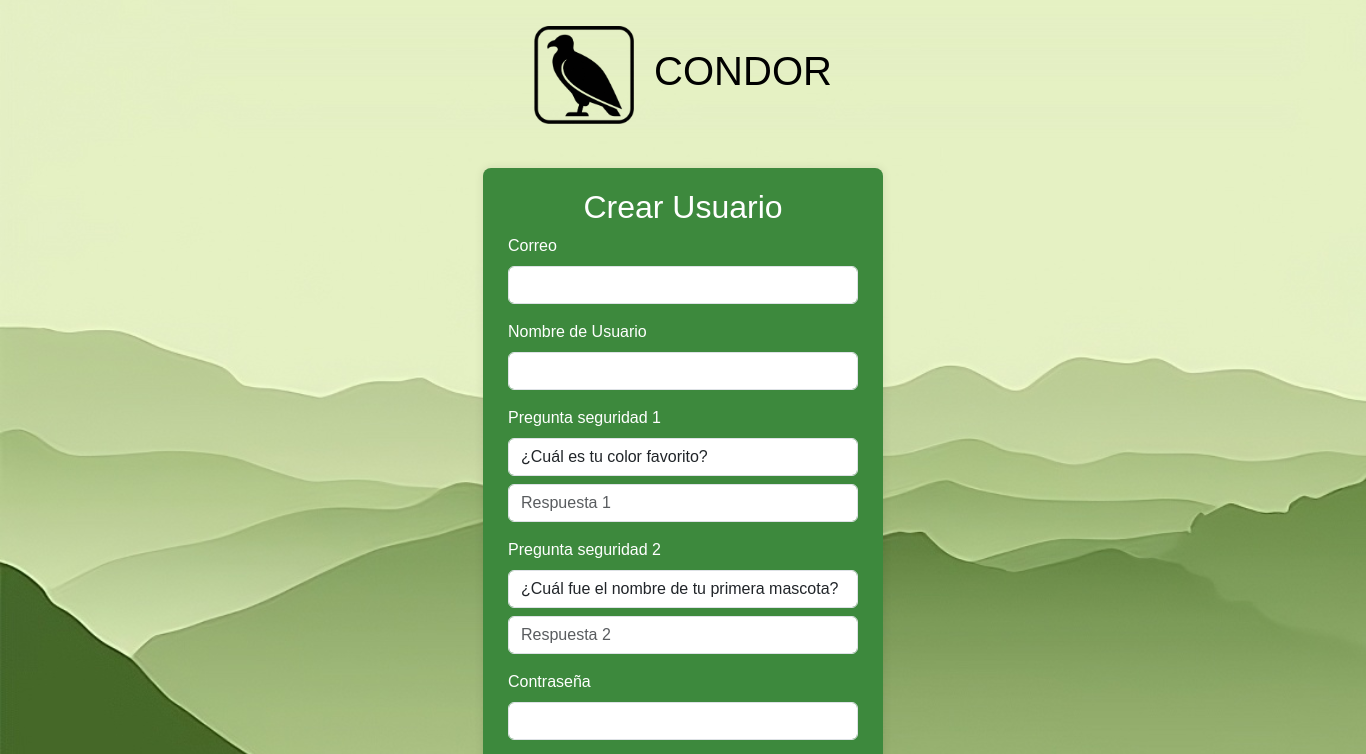
Scenario: Register page › envía los datos al backend cuando el formulario es válido
In the field labelled "Correo": (683, 285) [508, 266, 858, 304], type "nuevo@a.com"
In the field labelled "Nombre de Usuario": (683, 371) [508, 352, 858, 390], type "Nuevo"
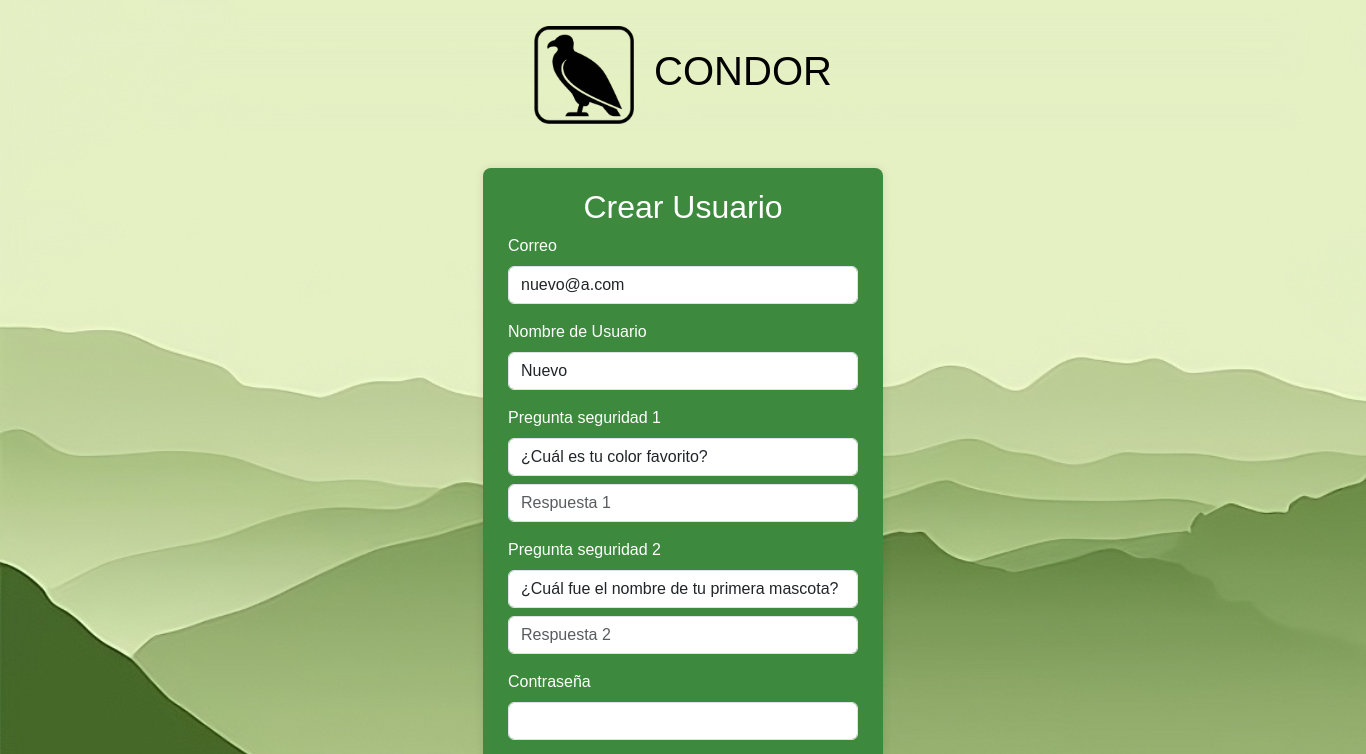
In the field with placeholder "Respuesta 1": (683, 503) [508, 484, 858, 522], type "Azul"
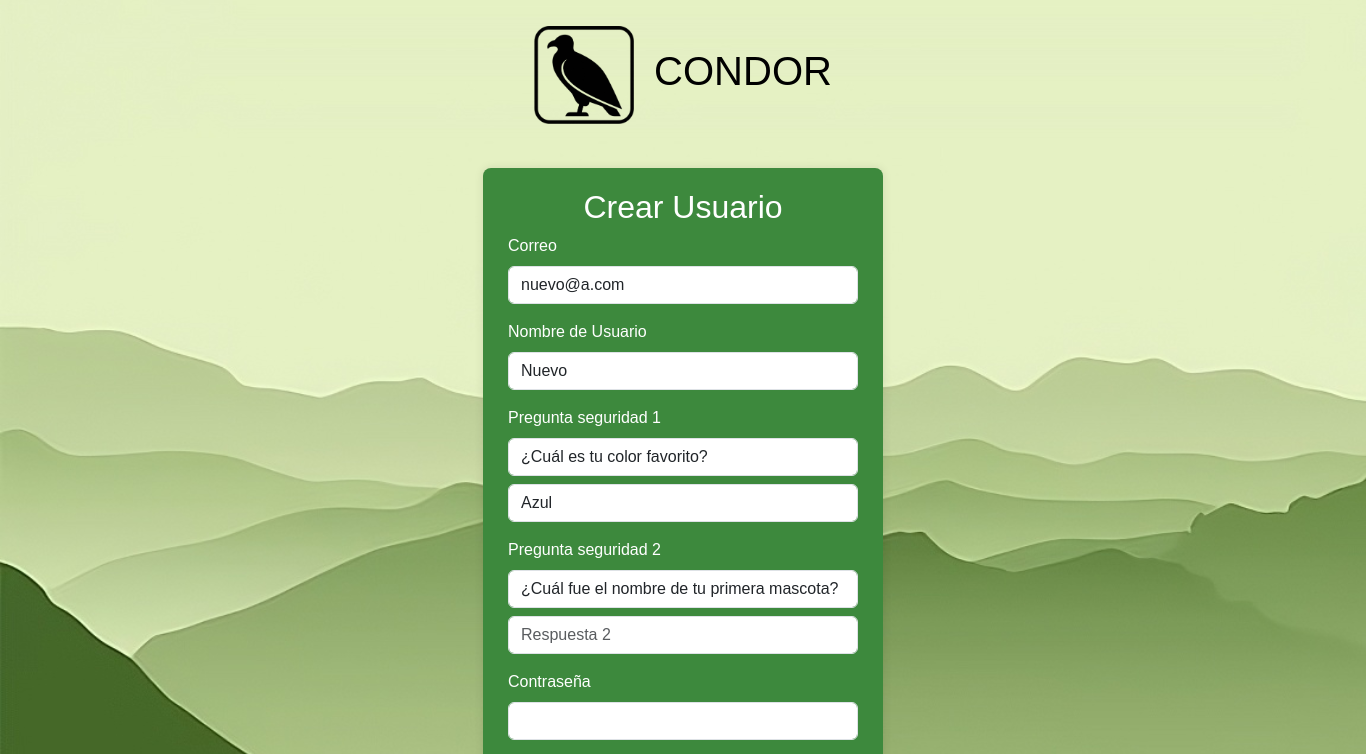
In the field with placeholder "Respuesta 2": (683, 635) [508, 616, 858, 654], type "Firulais"
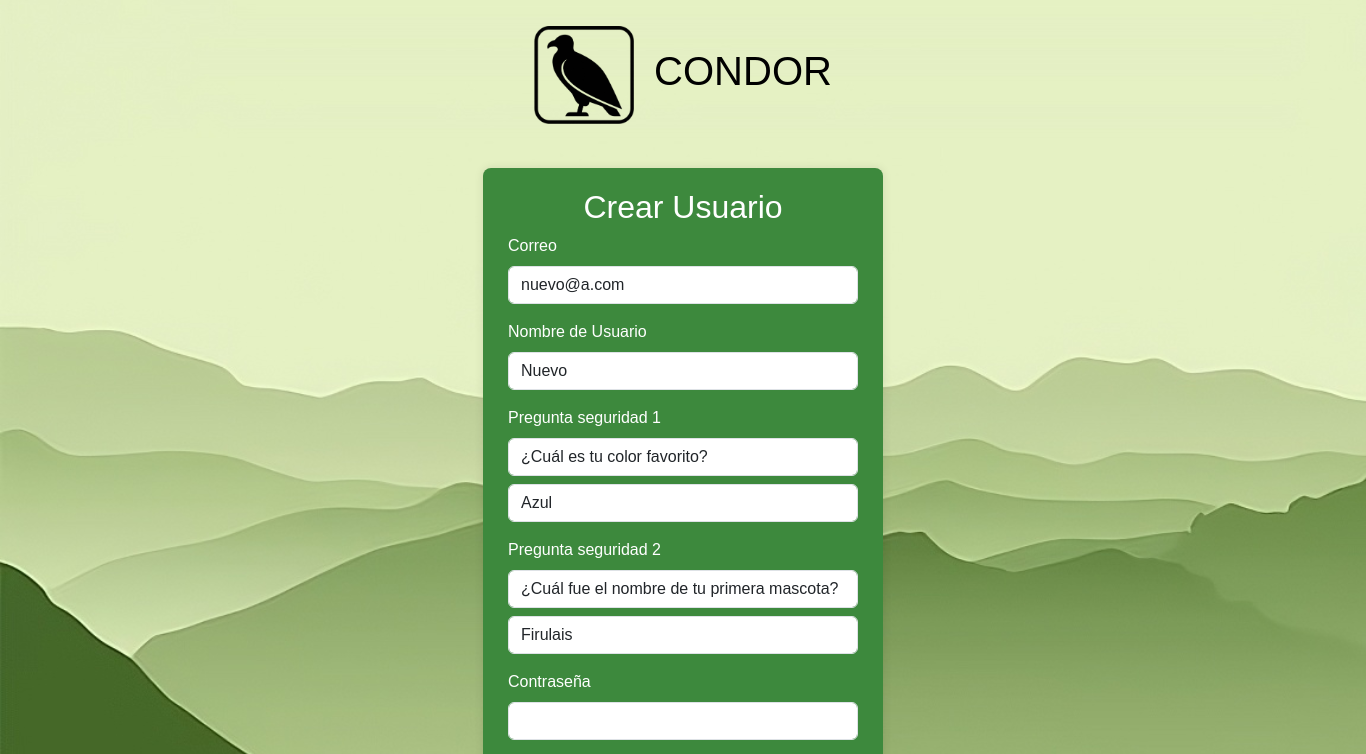
In the password field labelled "Contraseña": (683, 721) [508, 702, 858, 740], type "abcdef"
(page scrolled)
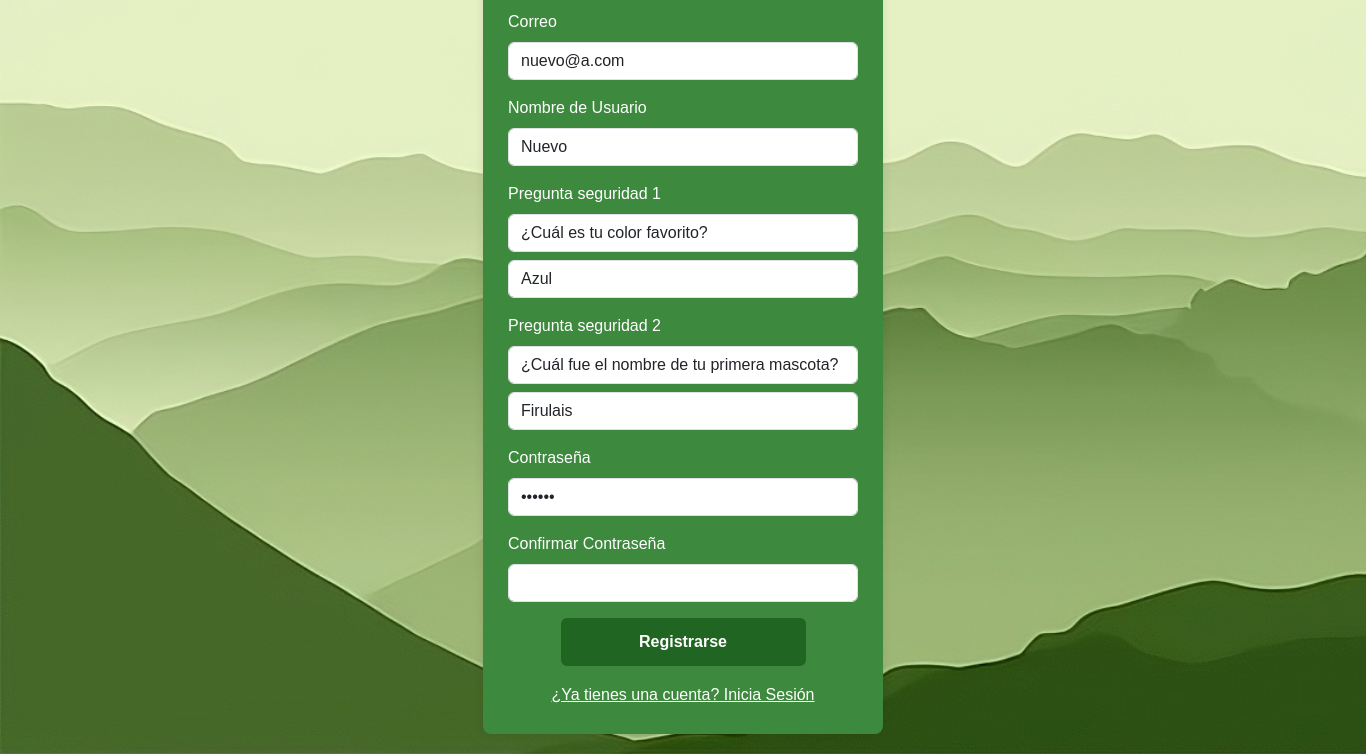
In the password field labelled "Confirmar Contraseña": (683, 583) [508, 564, 858, 602], type "abcdef"
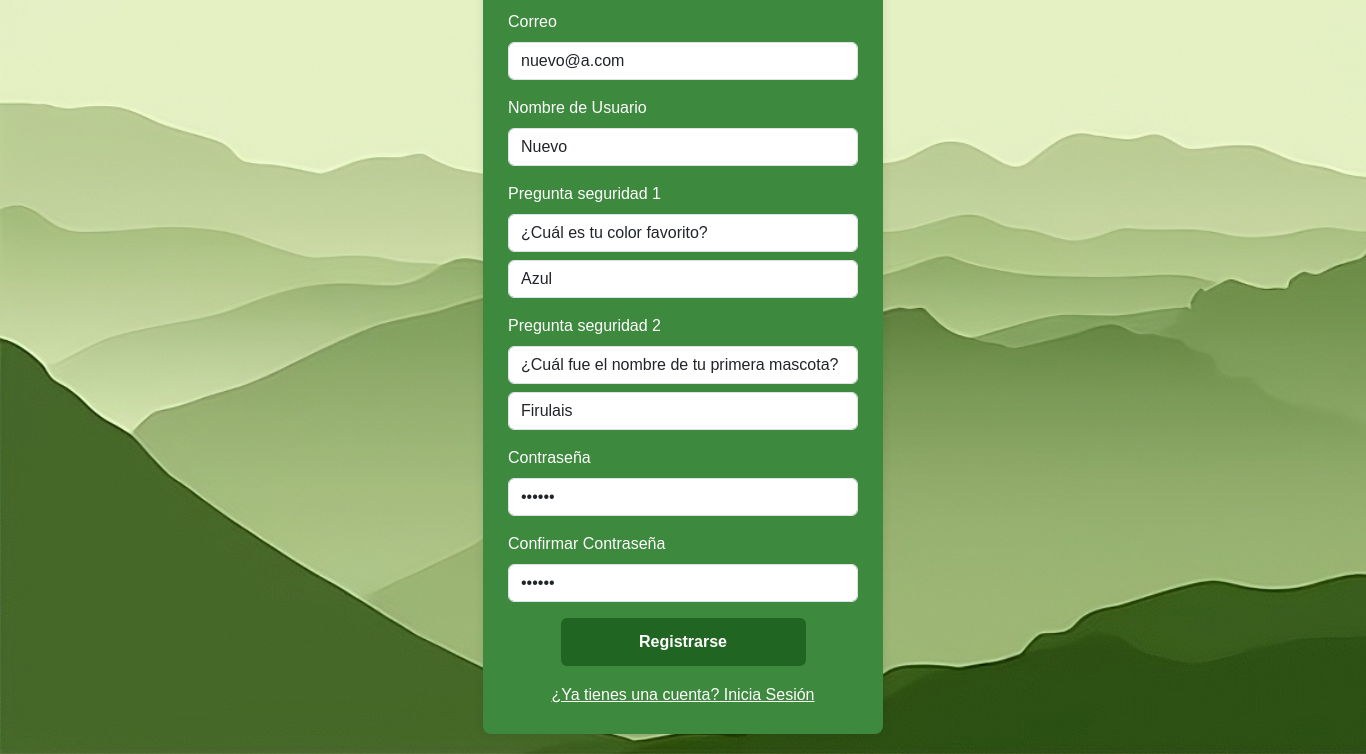
Click the button "Registrarse": (683, 642) [560, 618, 806, 666]
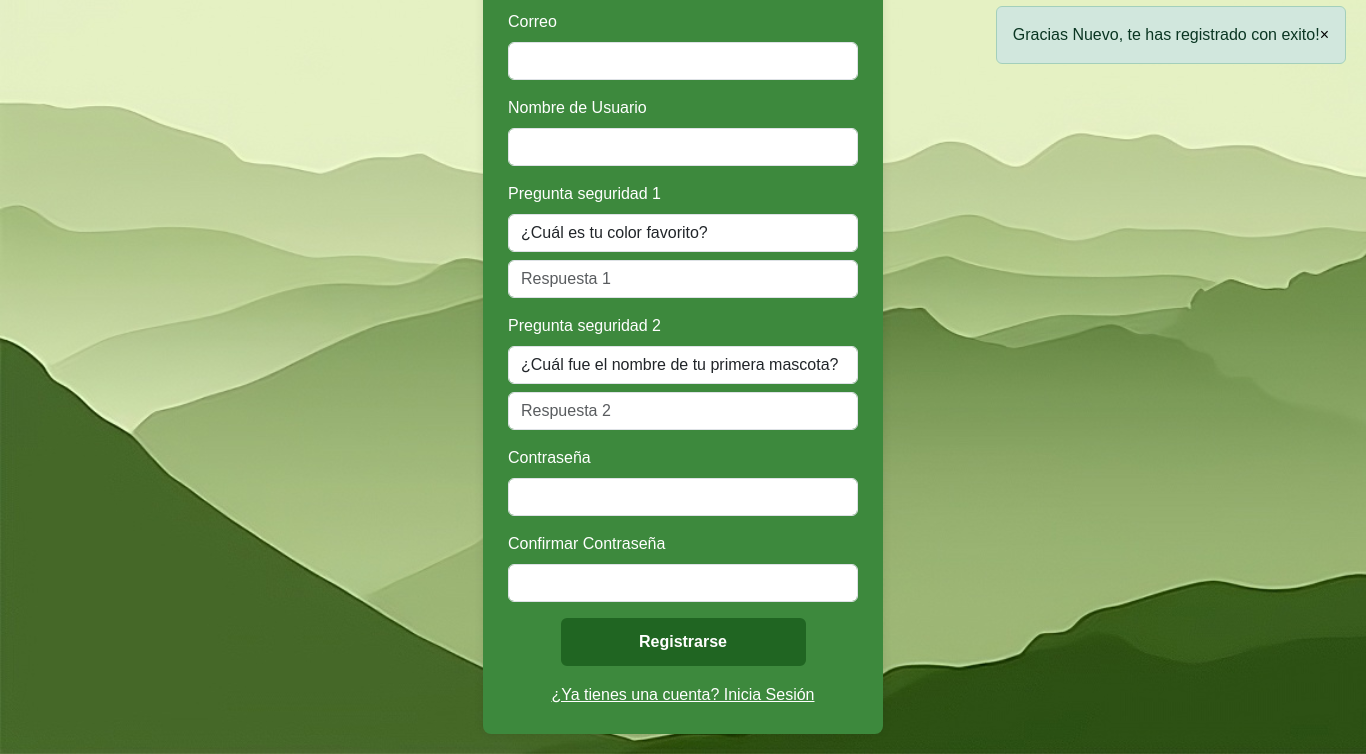
Now the text "Gracias Nuevo, te has registrado con exito! ×" is shown, box [996, 6, 1346, 64]
